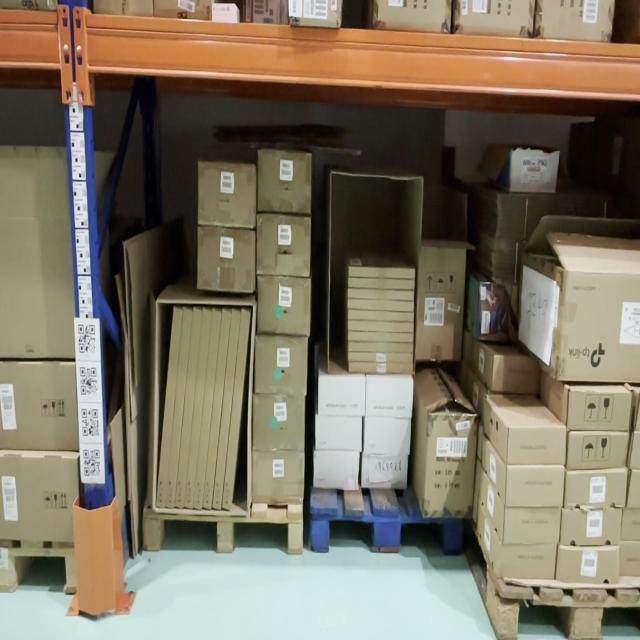box: (184, 308, 212, 510), (165, 308, 193, 508), (203, 309, 231, 509), (212, 310, 240, 510), (193, 311, 221, 510), (222, 311, 250, 510), (425, 416, 478, 521), (175, 308, 202, 510), (418, 248, 466, 358), (156, 309, 182, 508), (257, 151, 312, 215), (197, 227, 252, 291), (199, 164, 256, 225), (257, 218, 310, 275), (257, 278, 310, 335), (255, 337, 307, 393), (253, 396, 305, 451), (253, 453, 304, 502), (569, 390, 631, 430), (507, 465, 564, 507), (566, 471, 626, 508), (560, 510, 623, 545), (508, 427, 566, 465), (503, 508, 561, 545), (568, 435, 629, 469), (558, 549, 618, 582), (500, 545, 558, 578), (367, 376, 412, 417), (319, 375, 364, 415), (364, 419, 410, 455), (315, 417, 361, 452), (313, 454, 358, 488), (362, 455, 408, 486), (348, 299, 414, 312), (349, 267, 415, 278), (348, 289, 414, 300), (348, 310, 414, 321), (348, 322, 413, 333), (348, 279, 414, 289), (349, 332, 413, 342), (349, 343, 413, 353), (348, 353, 413, 362), (349, 364, 413, 373)
